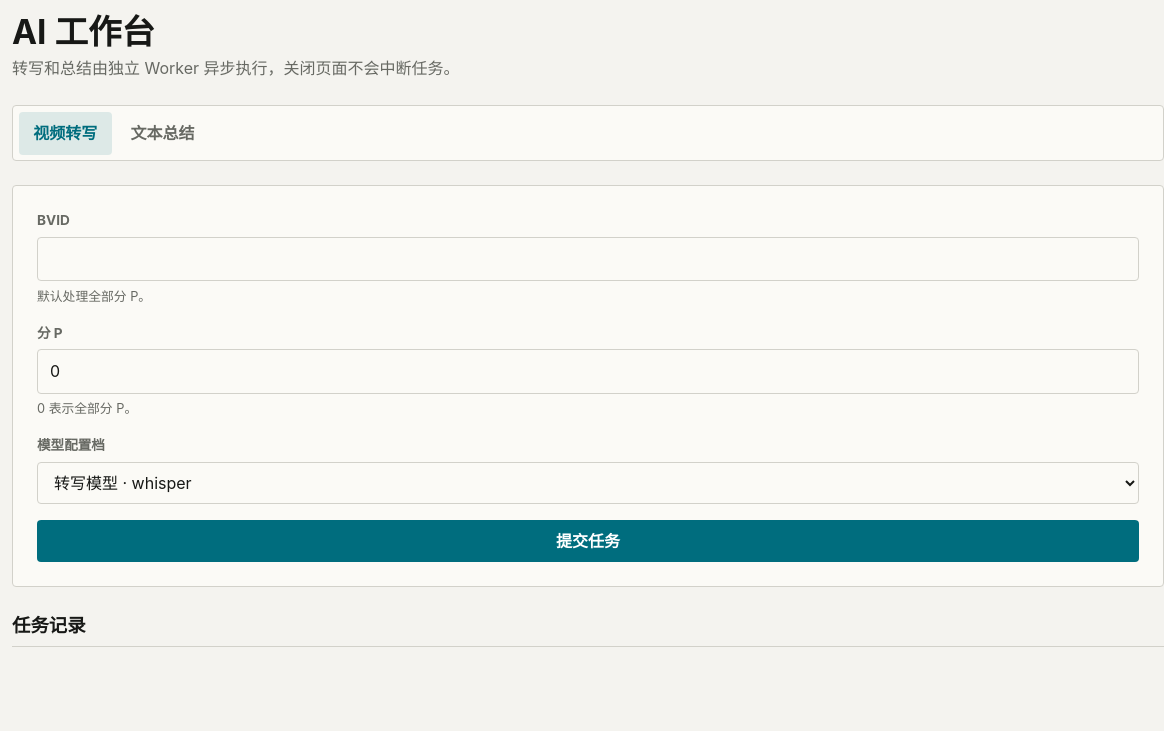
Test: AI workbench › submits a video transcription with the selected defaults
Type "  BV1TEST  " into the field labelled "BVID" at (588,259), box [37, 237, 1139, 281]
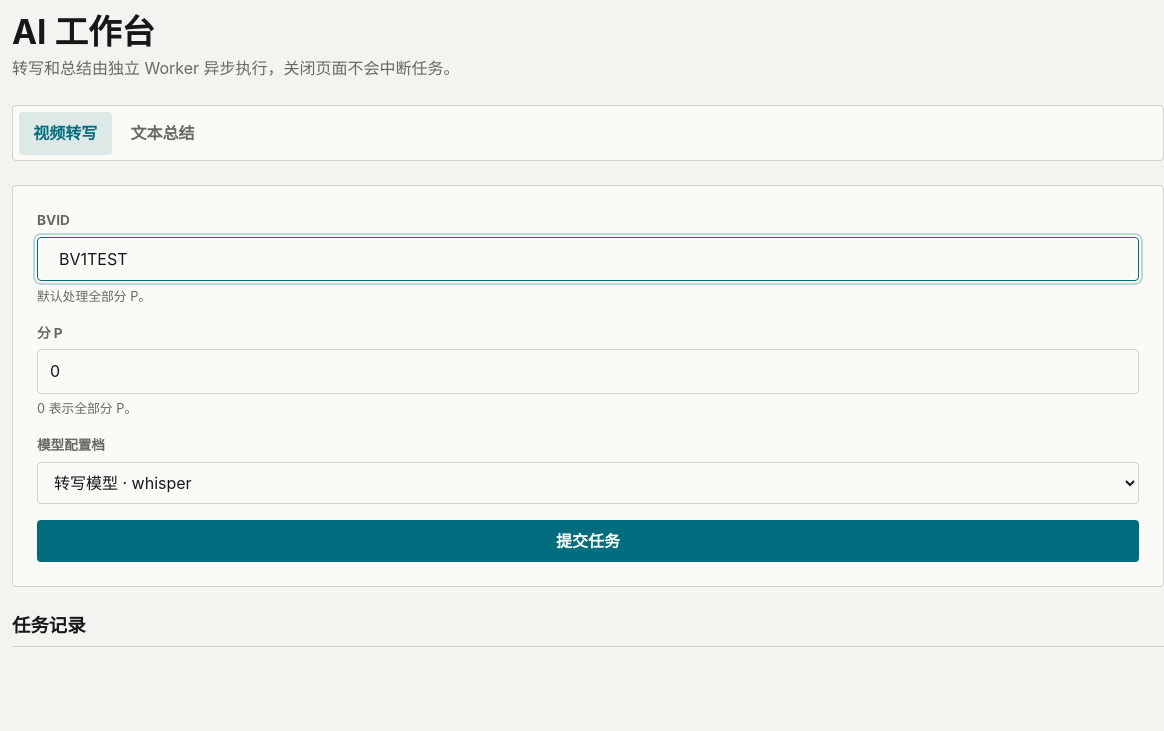
Replace the text in the number field labelled "分 P" with "2" at (588,371), box [37, 349, 1139, 394]
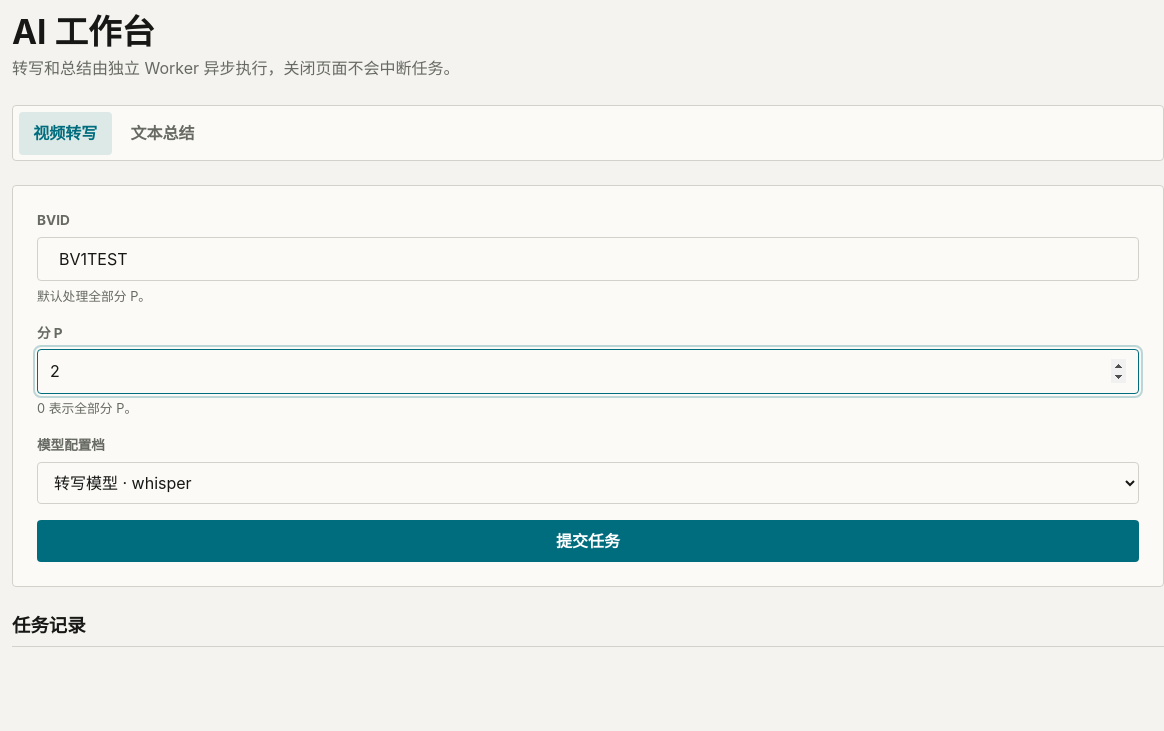
Click the button "提交任务" at (588,541), box [37, 520, 1139, 562]
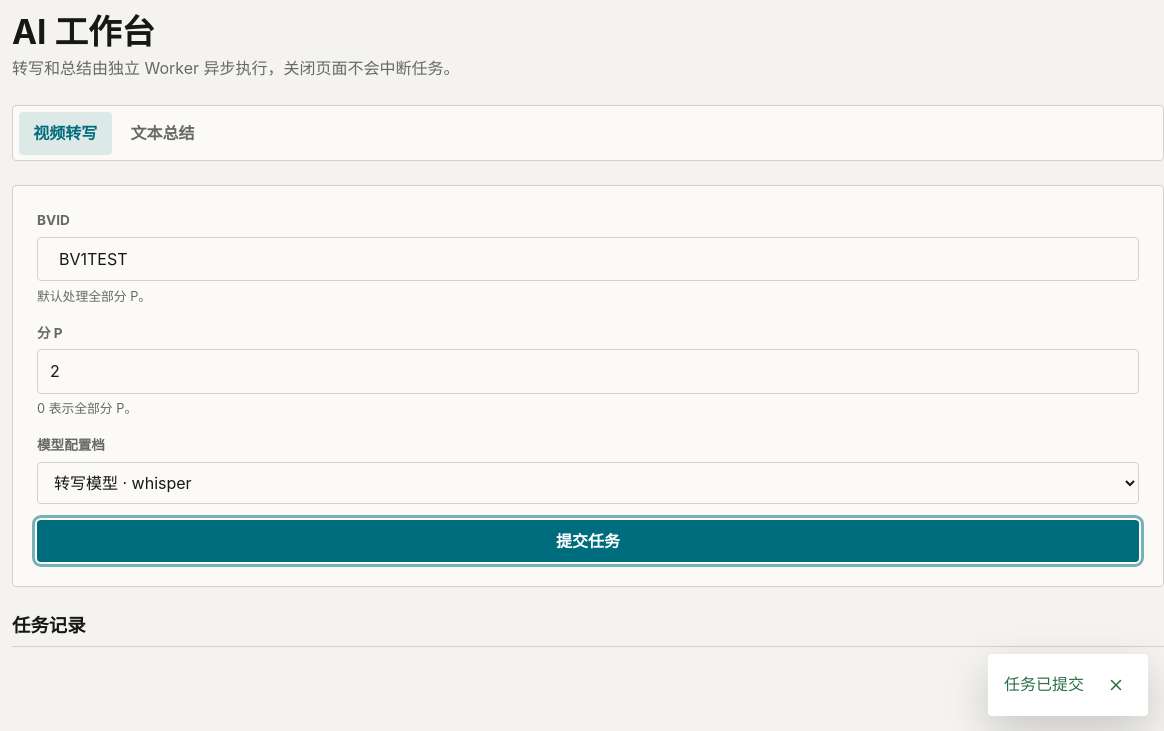
Check: the text "任务已提交" is shown, box [1004, 672, 1084, 697]
